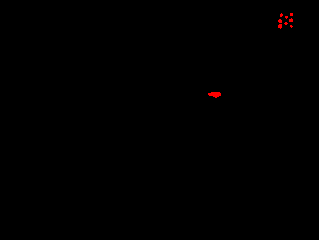Target: (208, 92, 221, 98), (278, 24, 282, 29), (289, 18, 293, 22), (278, 19, 282, 23), (280, 13, 283, 17), (284, 22, 288, 25), (290, 13, 293, 16), (285, 16, 288, 19), (290, 25, 293, 28)
